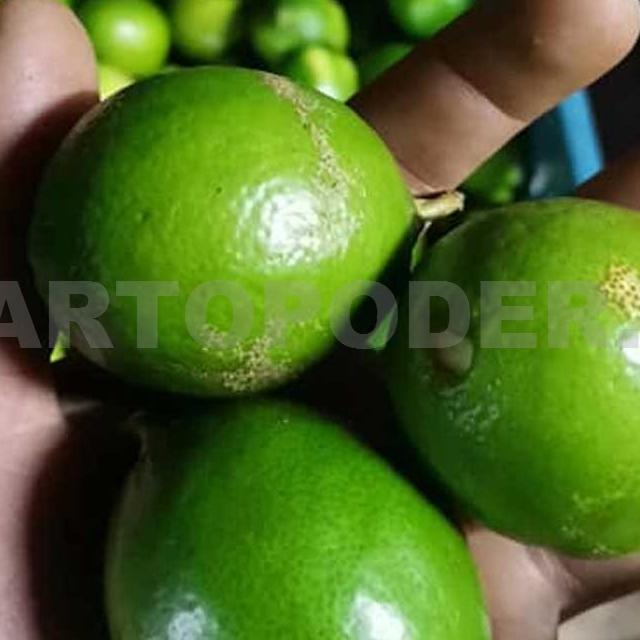lime: (26, 66, 416, 402), (378, 198, 640, 562), (104, 400, 495, 640)
